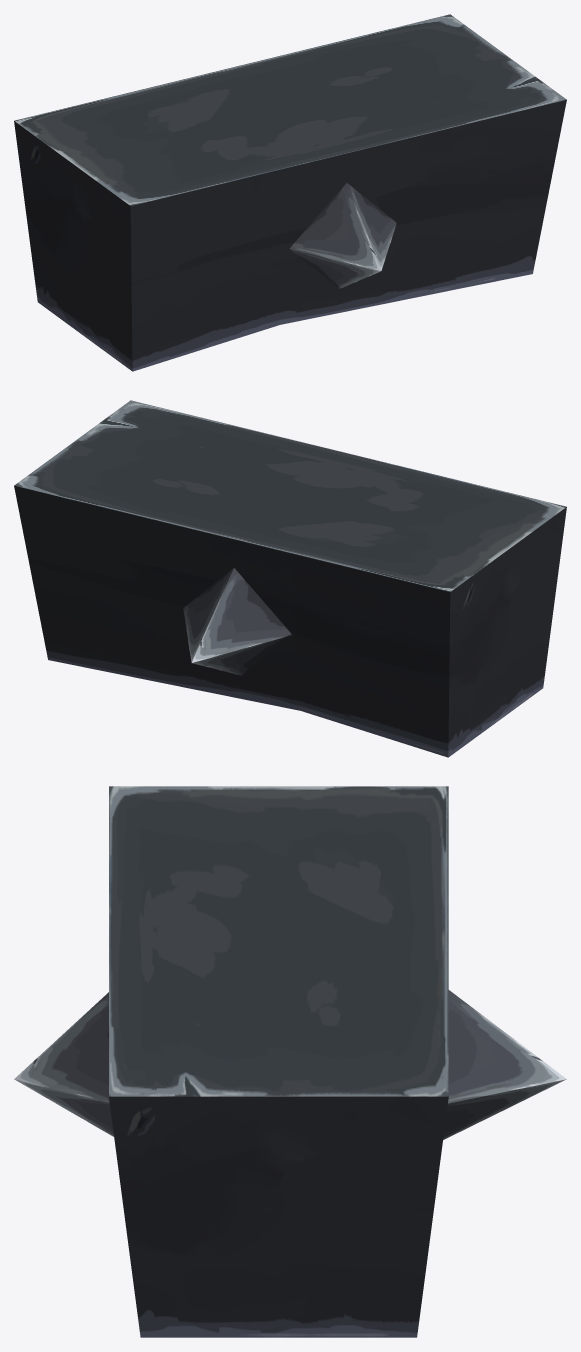
The model's file is SM_PROP_trap_blade_part_dungeon_01.fbx.
3 renders of one model, top to bottom at view 1: azimuth 30°, elevation 25°; view 2: azimuth 150°, elevation 25°; view 3: azimuth 270°, elevation 25°, orthographic. The views are drawn at different scales.
Visible parts, largest first — view 1: SM_PROP_trap_blade_part_dungeon_01; view 2: SM_PROP_trap_blade_part_dungeon_01; view 3: SM_PROP_trap_blade_part_dungeon_01.
Boxes of the visible parts, x1,y1,x2,y2 form: SM_PROP_trap_blade_part_dungeon_01: (14, 14, 566, 371); SM_PROP_trap_blade_part_dungeon_01: (14, 400, 566, 757); SM_PROP_trap_blade_part_dungeon_01: (14, 786, 566, 1337).
Size of the model in its own units: 51.4 by 19.88 by 38.72.
